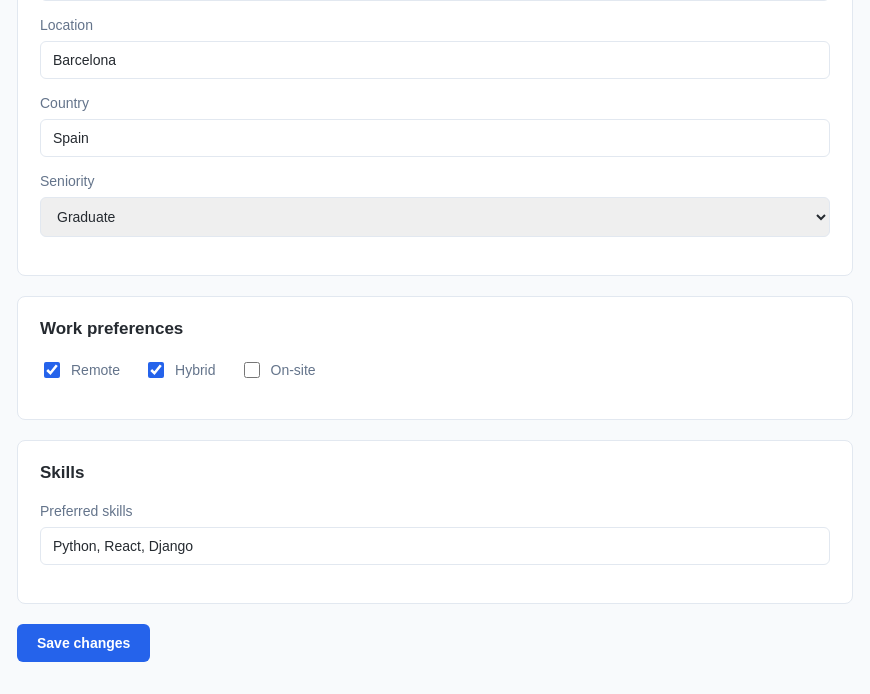
Scenario: Profile › displays a success message after saving
(page scrolled)
Click the button "Save changes" at (84, 643), box [17,624,150,662]
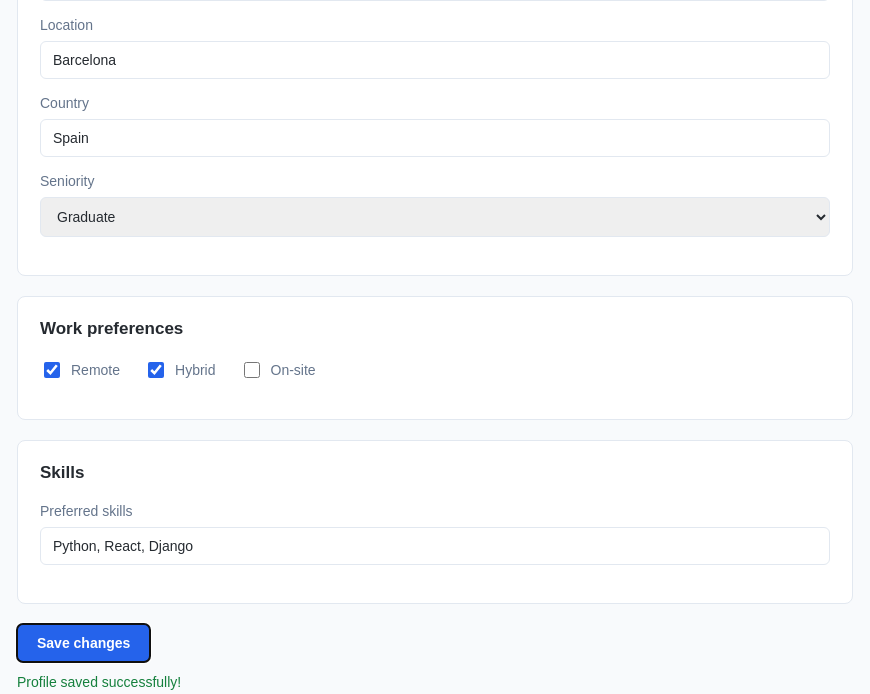
Check: the text "Profile saved successfully!" is shown, box [17,674,181,690]
